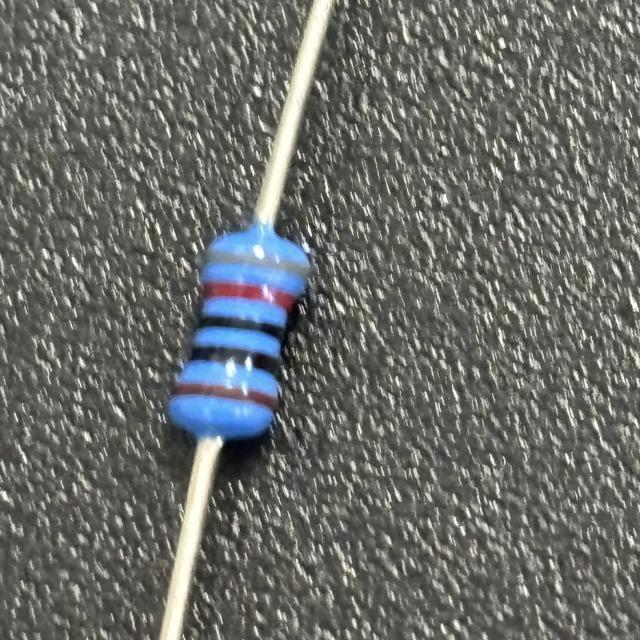resistor: (162, 235, 316, 431)
